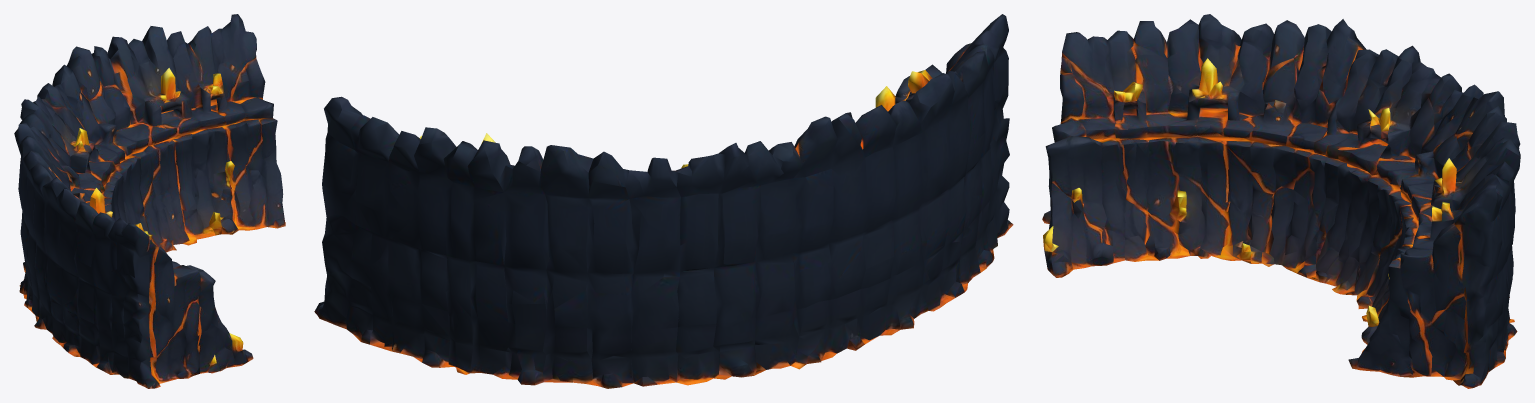
The model's file is volcan_crater_pared.glb.
The picture shows the model from 3 angles, left to right: view 1: azimuth 30°, elevation 25°; view 2: azimuth 150°, elevation 25°; view 3: azimuth 270°, elevation 25°; orthographic projection. The views are drawn at different scales.
Parts seen in each view (by area): view 1: tripo_node_d580b31d-63e3-4882-923d-e49e7de4d6a7; view 2: tripo_node_d580b31d-63e3-4882-923d-e49e7de4d6a7; view 3: tripo_node_d580b31d-63e3-4882-923d-e49e7de4d6a7.
Part boxes in pixels (bbox=[...]): tripo_node_d580b31d-63e3-4882-923d-e49e7de4d6a7: bbox=[14, 14, 285, 388]; tripo_node_d580b31d-63e3-4882-923d-e49e7de4d6a7: bbox=[314, 14, 1013, 388]; tripo_node_d580b31d-63e3-4882-923d-e49e7de4d6a7: bbox=[1042, 14, 1520, 388].
Bounding box in the file's own units: 0.9227 × 0.4548 × 0.9913.
1 material, 1 textured.
